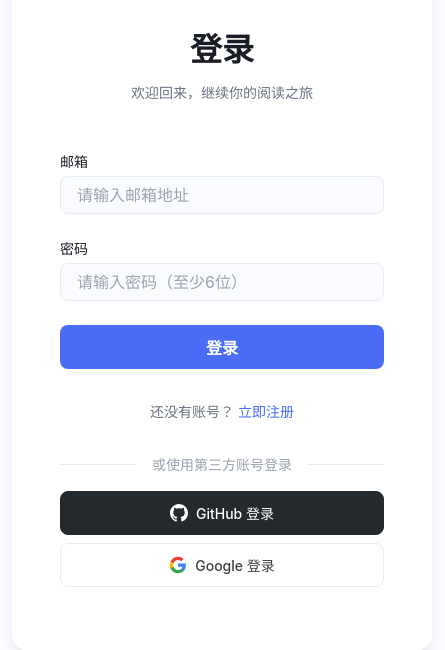
Test: LoginPage › shows duplicate email error on 409
The image size is (445, 650).
# Switch to register mode
Click the button with class "toggle-btn" at x=266, y=410, box [238,400,294,420]
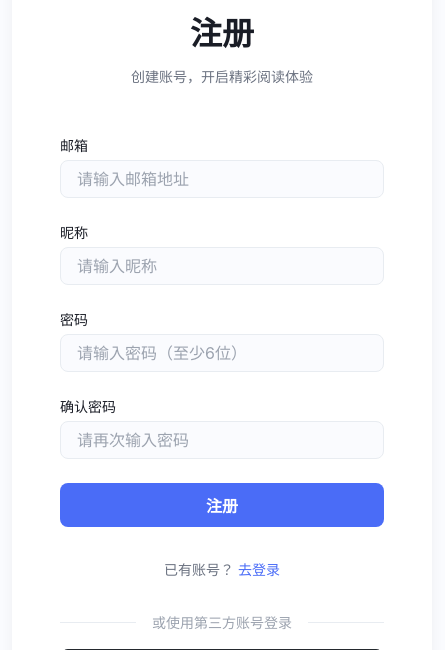
Type "dup@example.com" into the field with id "email" at x=222, y=179, box [60,160,384,198]
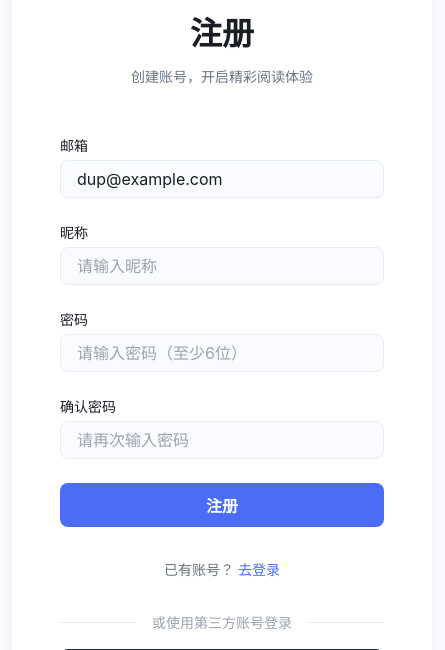
Type "Dup" into the field with id "nickname" at x=222, y=266, box [60,247,384,285]
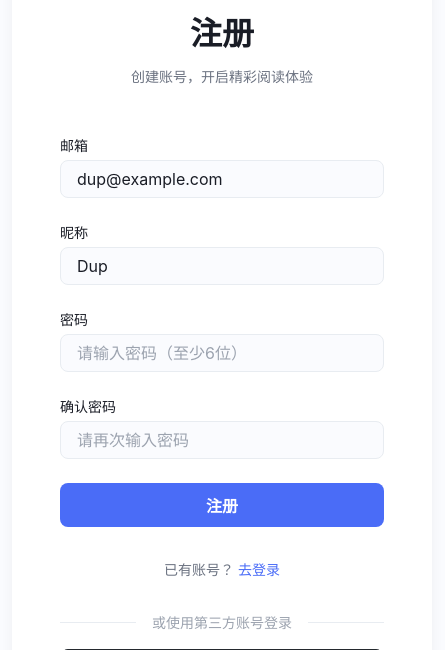
Type "123456" into the password field labelled "密码" at x=222, y=353, box [60,334,384,372]
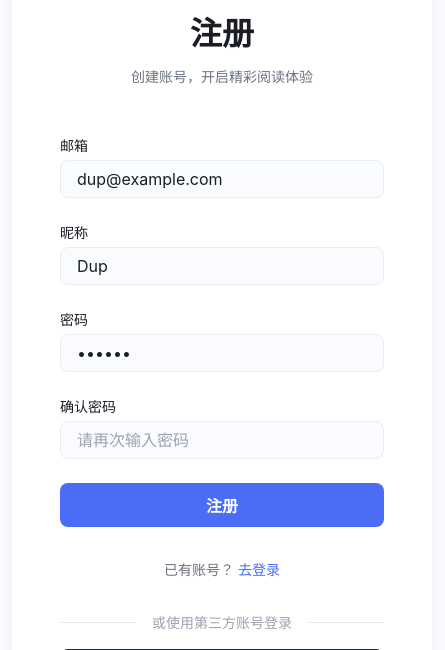
Type "123456" into the password field with id "confirmPassword" at x=222, y=440, box [60,421,384,459]
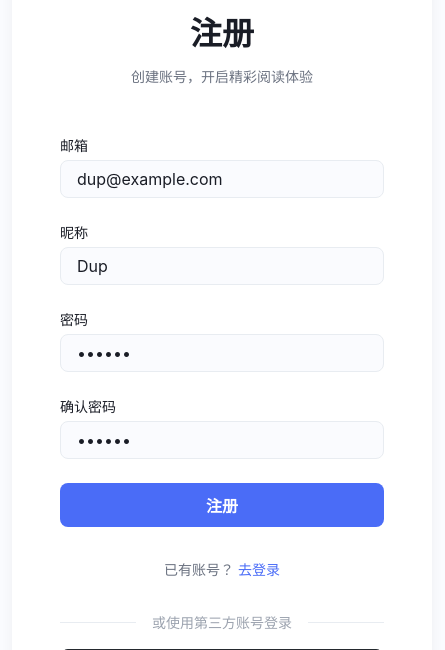
Submit the form, box [60,135,384,527]
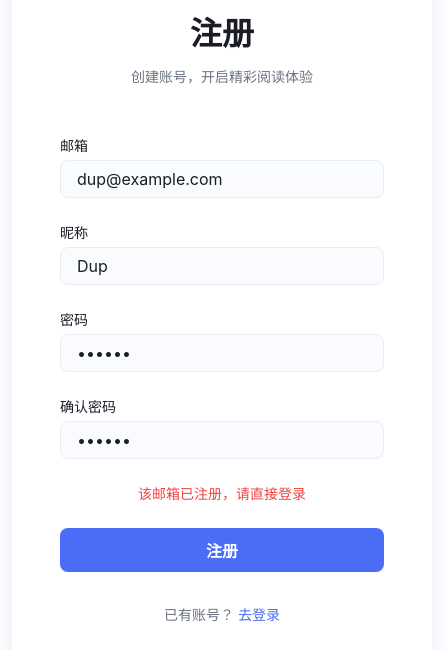
Now the message with class "form-error" reads "该邮箱已注册，请直接登录", box [138,485,306,502]
